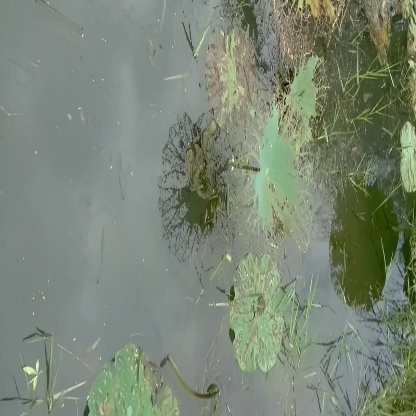leaf: (227, 246, 292, 373)
